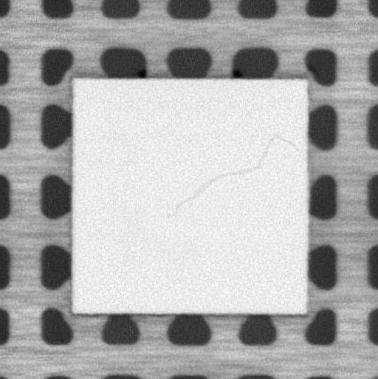DIE_CRACK: (170, 132, 304, 217)
